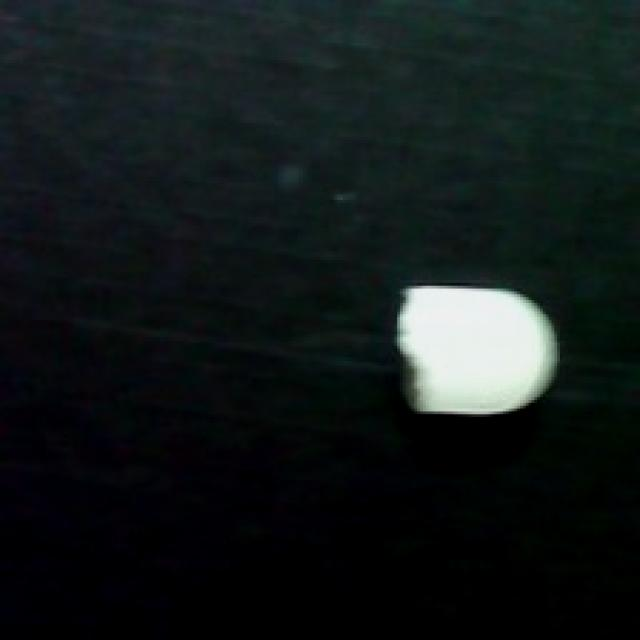defected: (394, 277, 563, 423)
